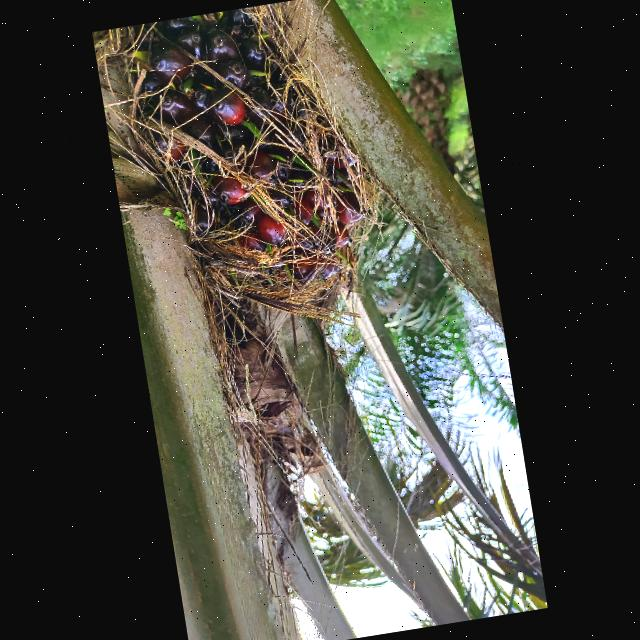Unripe: (140, 10, 361, 303)
